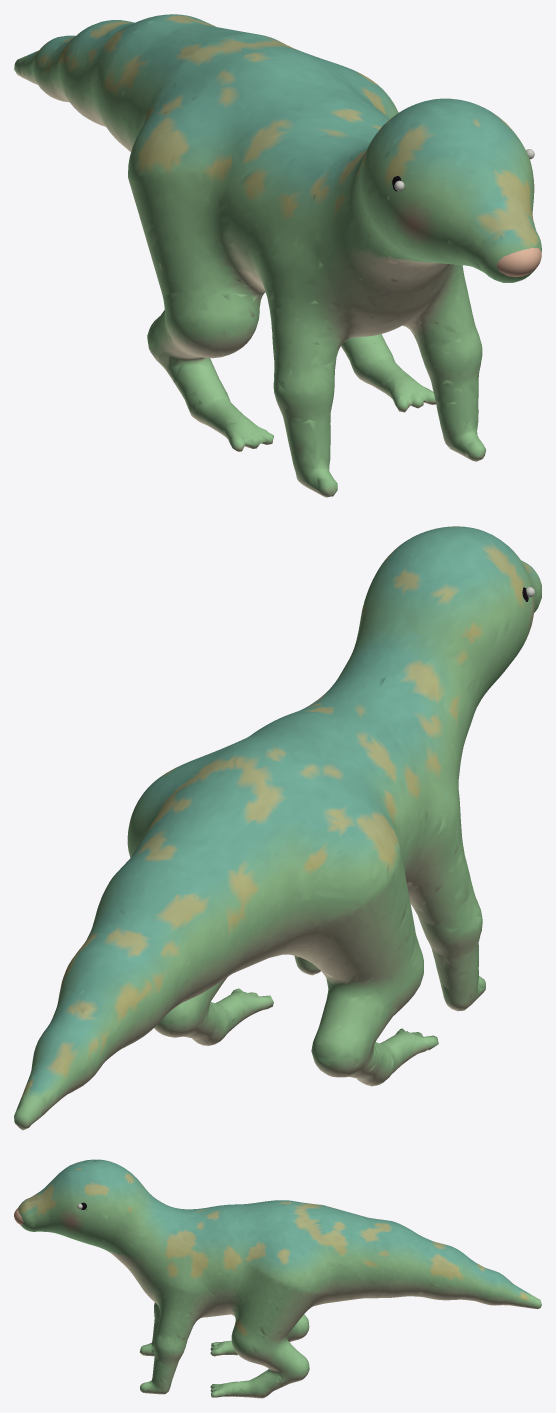
File: bori.glb
3 views of the same model, one above another, from view 1: azimuth 30°, elevation 25°; view 2: azimuth 150°, elevation 25°; view 3: azimuth 270°, elevation 25° (orthographic). The views are drawn at different scales.
Parts seen in each view (by area): view 1: geometry_0; view 2: geometry_0; view 3: geometry_0.
Part boxes in pixels (bbox=[...]): geometry_0: bbox=[14, 14, 541, 497]; geometry_0: bbox=[14, 526, 541, 1130]; geometry_0: bbox=[14, 1159, 541, 1398].
Size of the model in its own units: 0.0867 by 0.1338 by 0.3.
